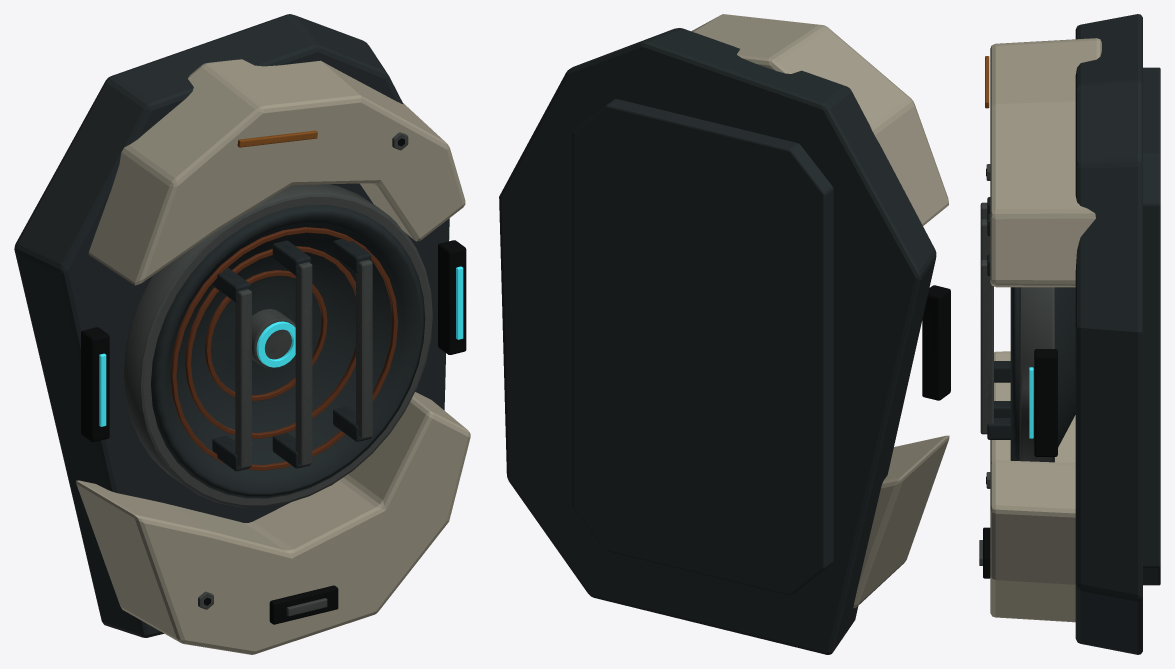
The model's file is projector.glb.
3 renders of one model, left to right at view 1: azimuth 30°, elevation 25°; view 2: azimuth 150°, elevation 25°; view 3: azimuth 270°, elevation 25°, orthographic. The views are drawn at different scales.
Parts seen in each view (by area): view 1: ivory, steel, edge, copper, rubber, cyan, paint; view 2: steel, ivory, rubber; view 3: steel, ivory, edge, rubber, cyan.
Boxes of the visible parts, x1,y1,x2,y2 form: ivory: (76,59,470,654); steel: (14,14,449,637); edge: (123,132,432,616); copper: (170,227,397,470); rubber: (81,138,466,624); cyan: (99,266,463,426); paint: (237,130,317,147); steel: (499,28,936,654); ivory: (691,14,949,608); rubber: (922,285,950,400); steel: (987,14,1160,654); ivory: (990,38,1101,622); edge: (979,164,1054,565); rubber: (983,168,1057,578); cyan: (1029,367,1033,438).
Bounding box in the file's own units: 0.1596 × 0.2063 × 0.0618.
7 materials, 6 textured.
